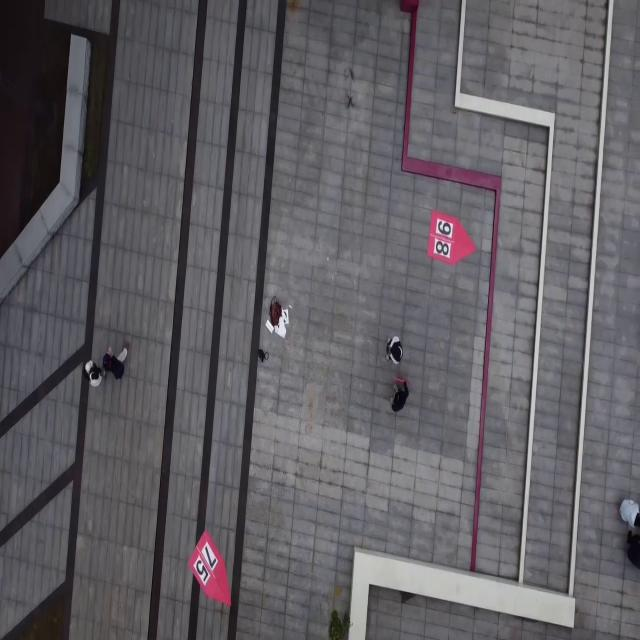-sign-: (189, 528, 232, 606), (426, 209, 476, 266)
